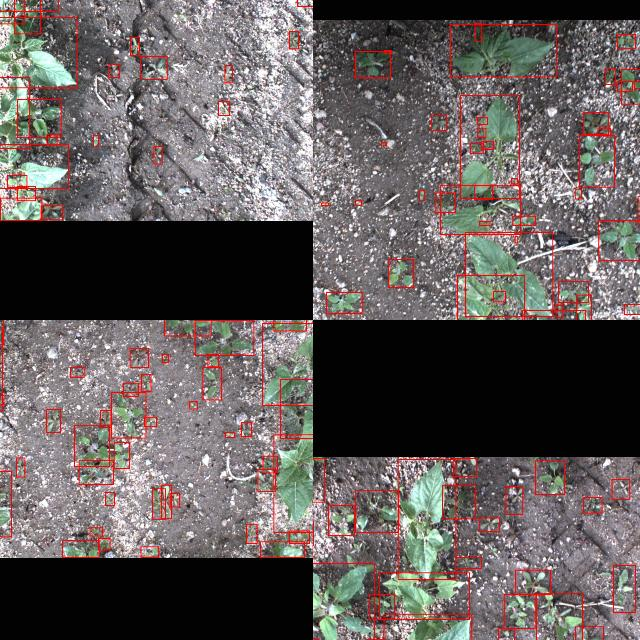crop: (464, 232, 552, 316), (397, 458, 455, 580), (459, 95, 518, 198), (449, 24, 555, 76), (0, 16, 76, 87), (313, 563, 374, 640), (379, 572, 469, 620), (262, 323, 313, 405), (273, 435, 313, 533), (439, 186, 519, 234), (456, 275, 524, 320), (0, 145, 67, 189), (383, 613, 471, 640), (0, 77, 29, 148), (279, 379, 313, 438), (0, 197, 41, 220), (260, 542, 304, 558)
weed: (536, 593, 582, 640), (194, 320, 253, 356), (578, 135, 614, 187), (354, 490, 398, 532), (598, 220, 640, 260), (16, 99, 60, 137), (110, 392, 146, 438), (74, 426, 108, 466), (442, 485, 474, 519), (504, 594, 534, 628), (534, 460, 564, 494), (613, 566, 635, 612), (354, 51, 390, 77), (514, 570, 550, 594), (14, 0, 40, 33), (78, 460, 112, 484), (325, 292, 361, 314), (327, 505, 353, 535), (164, 320, 210, 336), (388, 259, 412, 287), (621, 68, 640, 103), (140, 56, 167, 80), (62, 540, 98, 558), (368, 594, 394, 618), (558, 282, 588, 302), (202, 366, 220, 399), (582, 112, 608, 134), (0, 0, 23, 23), (506, 486, 522, 514), (452, 458, 476, 476), (113, 443, 129, 469), (435, 193, 455, 213), (257, 470, 275, 492), (575, 295, 590, 320), (575, 627, 603, 640), (129, 348, 147, 368), (152, 489, 164, 519), (611, 479, 629, 499), (161, 485, 171, 519), (272, 320, 305, 330), (16, 186, 36, 202), (582, 497, 602, 513), (46, 410, 60, 432), (40, 206, 61, 220), (289, 530, 309, 544), (479, 517, 499, 531), (455, 558, 481, 568), (430, 114, 446, 130), (617, 34, 635, 48), (474, 185, 492, 199), (6, 176, 26, 188), (122, 383, 138, 397), (262, 456, 276, 472), (512, 216, 534, 226), (140, 546, 158, 558), (246, 524, 256, 544), (498, 628, 514, 640), (288, 31, 298, 49), (140, 374, 150, 392), (100, 410, 110, 428), (623, 305, 640, 315), (130, 36, 138, 56), (604, 68, 614, 84), (616, 81, 632, 91), (108, 64, 119, 78), (16, 458, 24, 477), (153, 146, 161, 164), (474, 23, 482, 41), (97, 538, 109, 550), (218, 101, 228, 115), (469, 143, 483, 153), (241, 422, 251, 436), (169, 493, 179, 507), (70, 367, 84, 377), (224, 66, 232, 82), (105, 492, 114, 506), (46, 135, 58, 145), (493, 292, 505, 302), (144, 417, 156, 427), (207, 354, 217, 366), (596, 128, 610, 136), (296, 0, 313, 6), (481, 141, 493, 149), (90, 528, 102, 536), (477, 127, 485, 137), (476, 116, 486, 124), (556, 306, 562, 318), (92, 136, 98, 146), (479, 220, 489, 226), (418, 190, 424, 200), (633, 81, 640, 89), (224, 432, 233, 438), (162, 353, 168, 362), (574, 190, 580, 198), (188, 402, 196, 408), (511, 178, 517, 184), (355, 200, 361, 206), (384, 50, 391, 54), (514, 237, 518, 243), (380, 142, 386, 146), (320, 202, 328, 205)
